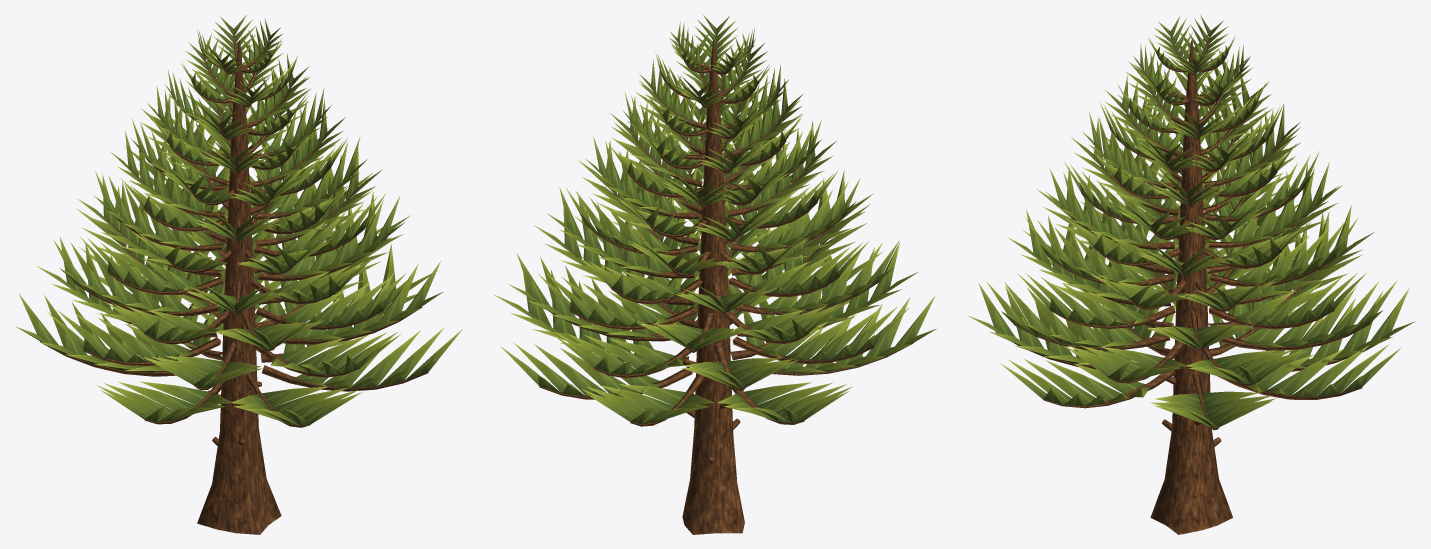
File: araucaria.glb
3 renders of one model, left to right at view 1: azimuth 30°, elevation 25°; view 2: azimuth 150°, elevation 25°; view 3: azimuth 270°, elevation 25°, orthographic.
Parts seen in each view (by area): view 1: araucaria; view 2: araucaria; view 3: araucaria.
Part boxes in pixels (box(x1,y1,x2,y2)): araucaria: box(15, 15, 462, 534); araucaria: box(493, 15, 936, 534); araucaria: box(968, 15, 1415, 534).
Size of the model in its own units: 6.16 by 7.57 by 6.37.
Materials: 2 (2 with a texture image).
